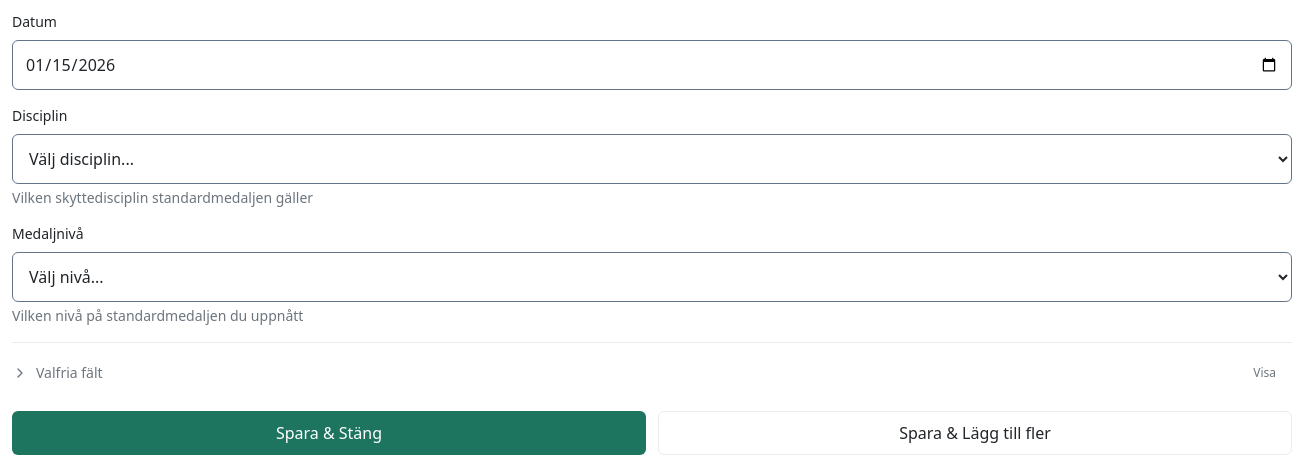
StandardMedalForm › validation › shows error when discipline is not selected
Click the button "Spara & Stäng": (329, 433) left=12, top=411, right=646, bottom=455
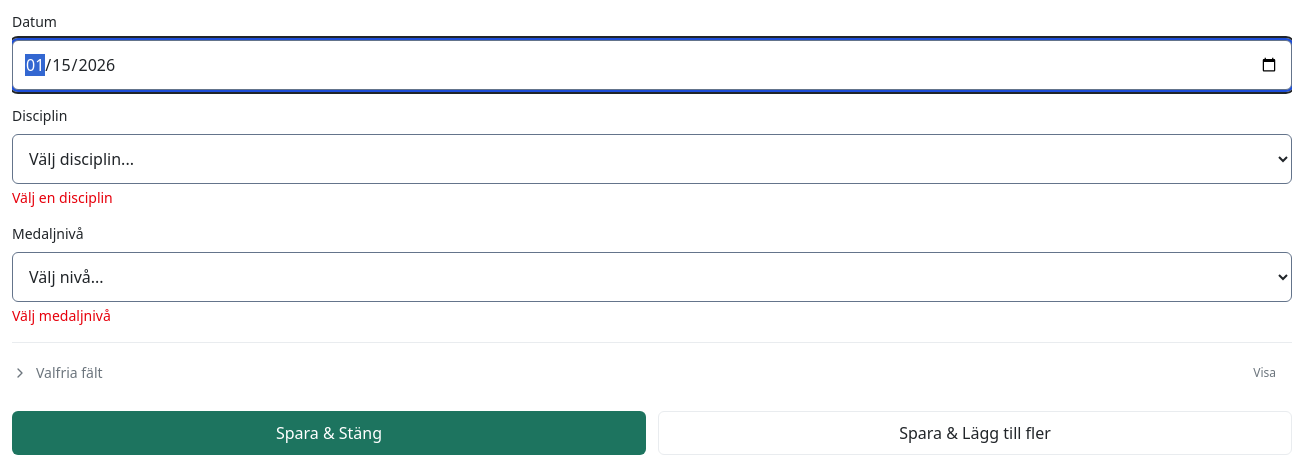
Result: the text "Välj en disciplin" is shown at left=12, top=188, right=113, bottom=207
